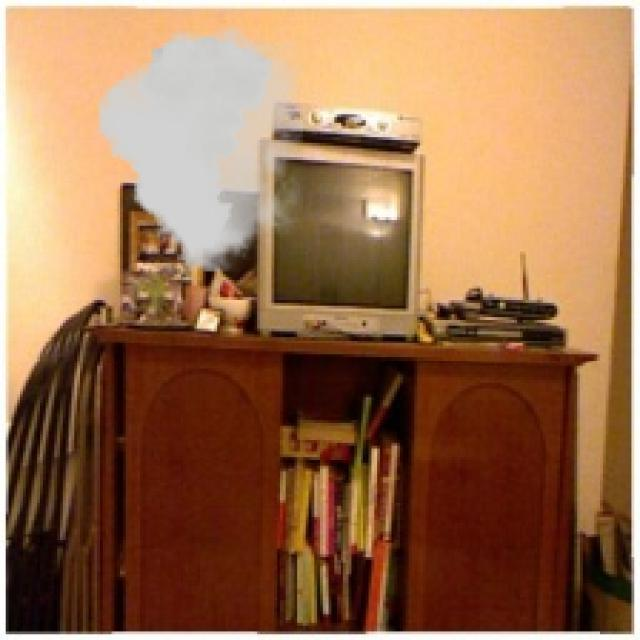Smoke: (97, 25, 303, 272)
